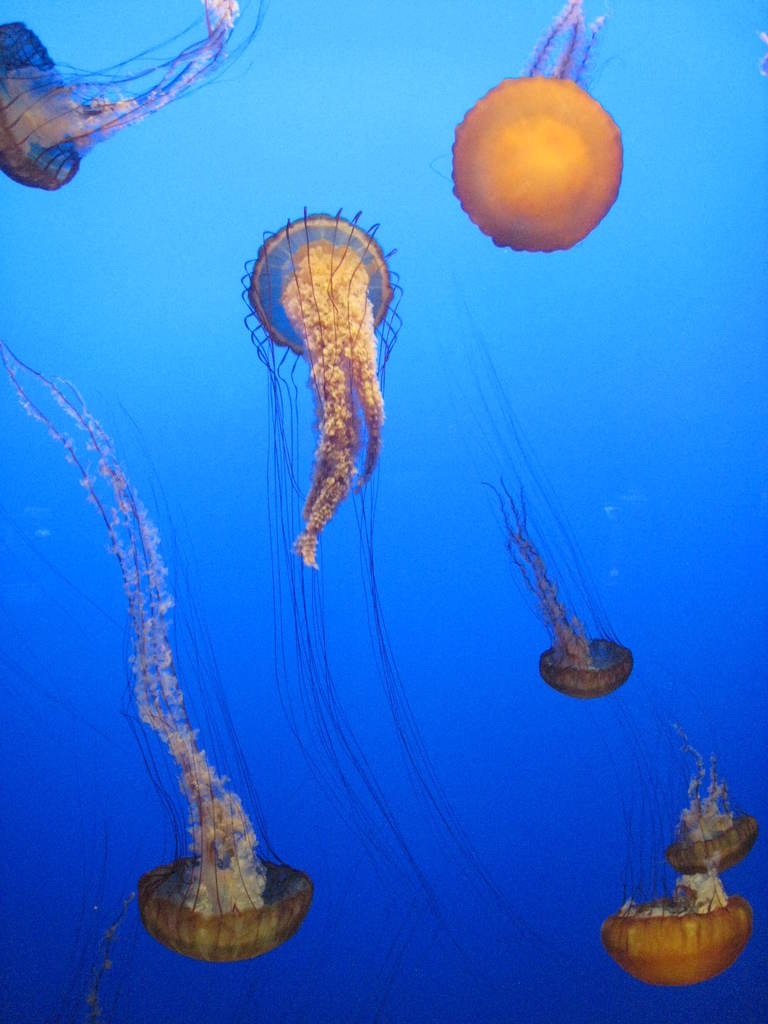Jellyfish: (2, 344, 315, 967), (236, 204, 408, 573), (449, 0, 622, 251), (600, 741, 756, 991), (481, 476, 636, 709), (651, 683, 754, 876)
